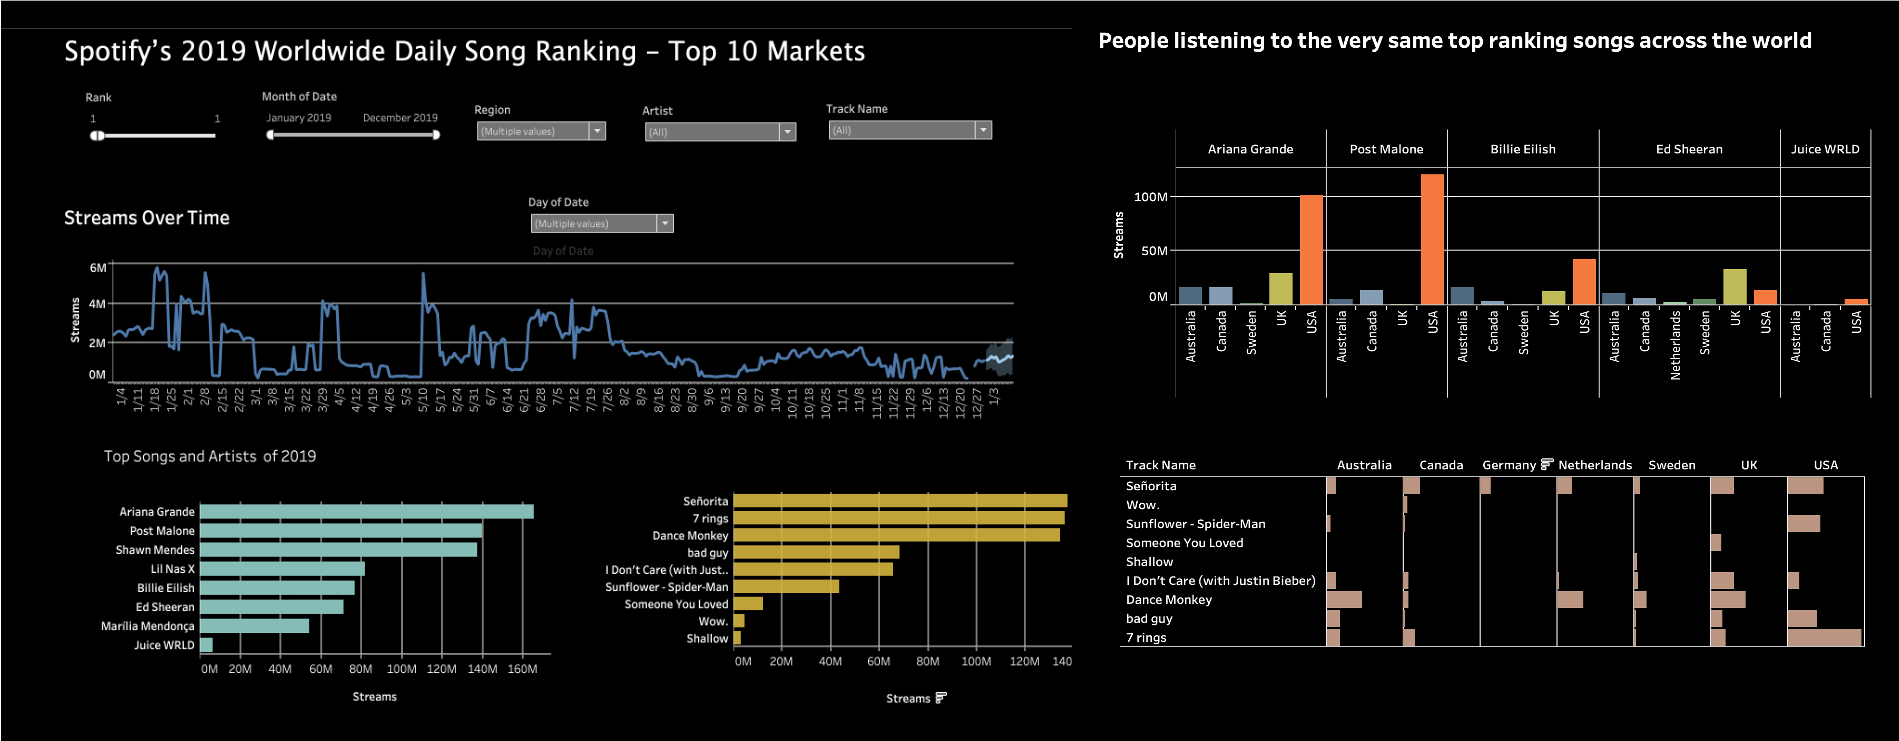

The dashboard page shown, as its layout file describes it:
{"tool":"tableau","page":{"name":"Dashboard 1 (2)","canvas":[1300,1600],"ordinal":1},"visuals":[{"type":"title","box":[8,8,1284,41]},{"type":"blank","box":[8,49,1284,1543]},{"type":"filter","title":"Songs ","param":"[federated.1a6lg4g165ijlx12t7h611j5lb3a].[tmn:date:qk]","box":[227,68,197,61]},{"type":"filter","title":"top 2019 songs ","param":"[federated.1a6lg4g165ijlx12t7h611j5lb3a].[none:Position:qk]","box":[37,69,153,61]},{"type":"filter","title":"Songs ","param":"[federated.1a6lg4g165ijlx12t7h611j5lb3a].[none:Track Name:nk]","box":[835,81,182,60]},{"type":"filter","title":"Songs (2)","param":"[federated.1a6lg4g165ijlx12t7h611j5lb3a].[none:region:nk]","box":[456,82,145,79]},{"type":"filter","title":"Songs (2)","param":"[federated.1a6lg4g165ijlx12t7h611j5lb3a].[none:Artist:nk]","box":[637,83,169,60]},{"type":"filter","title":"Avg streams ","param":"[federated.1a6lg4g165ijlx12t7h611j5lb3a].[tdy:date:ok]","box":[514,179,160,44]},{"type":"worksheet","title":"Avg streams ","mark":"Automatic","rows":["Streams"],"cols":["date"],"box":[10,185,1027,232]},{"type":"text","box":[51,439,238,30]},{"type":"worksheet","title":"top 2019 songs ","mark":"Bar","rows":["Track Name"],"cols":["Streams"],"box":[595,492,545,303]},{"type":"worksheet","title":"top 2019 Artists","mark":"Bar","rows":["Artist"],"cols":["Streams"],"box":[36,502,600,300]},{"type":"text","box":[23,697,795,56]},{"type":"worksheet","title":"Songs (2)","mark":"Automatic","rows":["Streams"],"cols":["Artist","region"],"box":[29,815,731,270]},{"type":"worksheet","title":"Songs ","mark":"Bar","rows":["Track Name"],"cols":["region"],"box":[46,1139,734,272]}]}

Visuals, with their boxes on the page's 1300x1600 design canvas (x1, y1, x2, y2). These are canvas units, not pixel positions in the 1899x741 screenshot, which may show the page scaled, cropped or inside an application window:
title: region(8, 8, 1292, 49)
blank: region(8, 49, 1292, 1592)
"Songs " filter: region(227, 68, 424, 129)
"top 2019 songs " filter: region(37, 69, 190, 130)
"Songs " filter: region(835, 81, 1017, 141)
"Songs (2)" filter: region(456, 82, 601, 161)
"Songs (2)" filter: region(637, 83, 806, 143)
"Avg streams " filter: region(514, 179, 674, 223)
"Avg streams " worksheet: region(10, 185, 1037, 417)
text: region(51, 439, 289, 469)
"top 2019 songs " worksheet (Bar marks): region(595, 492, 1140, 795)
"top 2019 Artists" worksheet (Bar marks): region(36, 502, 636, 802)
text: region(23, 697, 818, 753)
"Songs (2)" worksheet: region(29, 815, 760, 1085)
"Songs " worksheet (Bar marks): region(46, 1139, 780, 1411)
